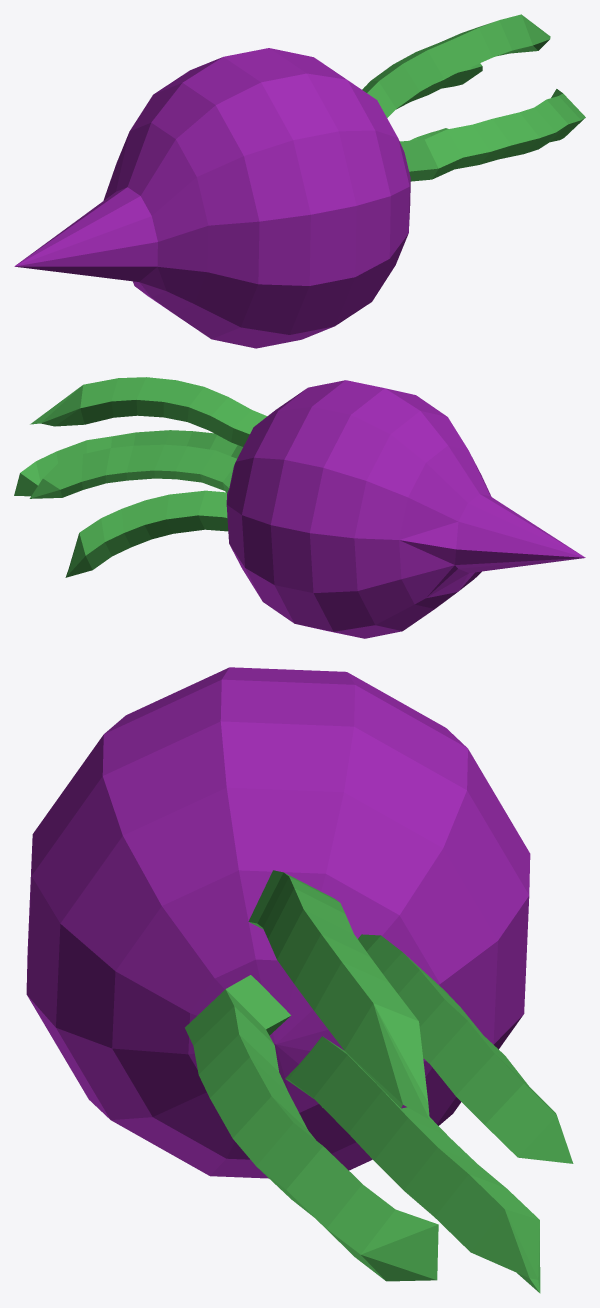
3 renders of one model, top to bottom at view 1: azimuth 30°, elevation 25°; view 2: azimuth 150°, elevation 25°; view 3: azimuth 270°, elevation 25°, orthographic. The views are drawn at different scales.
Visible parts, largest first — view 1: group_262615222; view 2: group_262615222; view 3: group_262615222.
Part boxes in pixels (x1,y1,x2,y2): group_262615222: (14, 14, 585, 348); group_262615222: (14, 377, 585, 638); group_262615222: (26, 667, 573, 1293).
Bounding box in the file's own units: 104 × 43.51 × 47.01.
